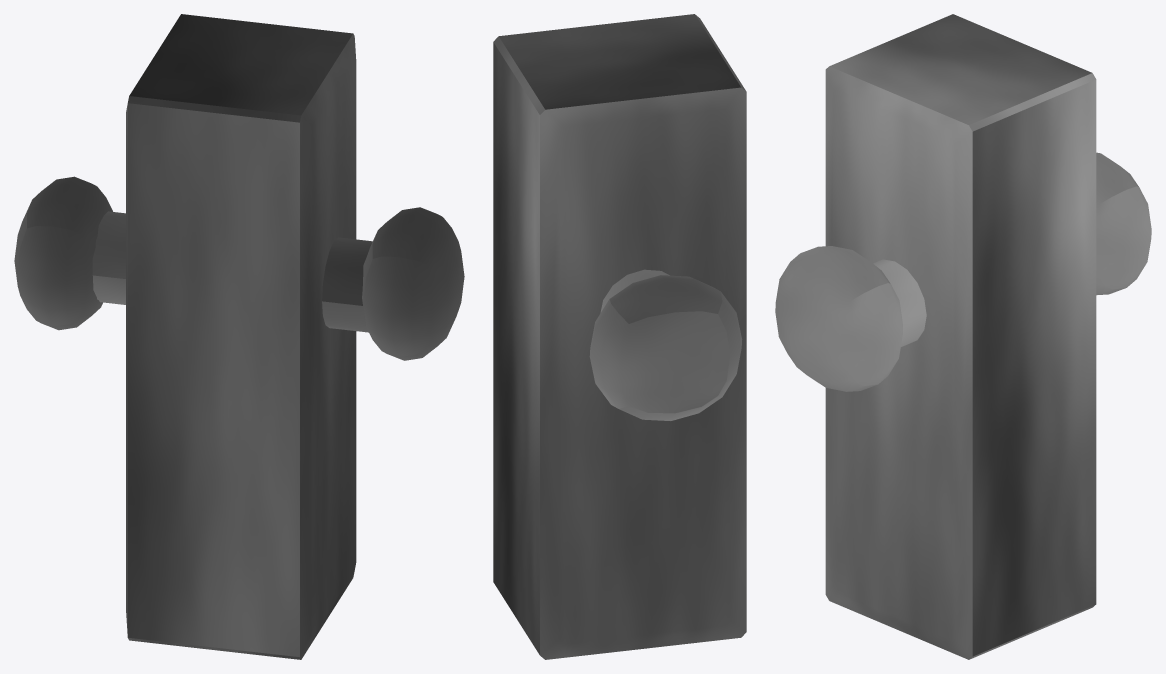
Rendered from FP208:StandardKnob1_23e0787e.obj.
3 renders of one model, left to right at view 1: azimuth 30°, elevation 25°; view 2: azimuth 150°, elevation 25°; view 3: azimuth 270°, elevation 25°, orthographic. The views are drawn at different scales.
Visible parts, largest first — view 1: FP208:StandardKnob1_23e0787e; view 2: FP208:StandardKnob1_23e0787e; view 3: FP208:StandardKnob1_23e0787e.
Part boxes in pixels (x1=…): FP208:StandardKnob1_23e0787e: x1=14, y1=14, x2=464, y2=659; FP208:StandardKnob1_23e0787e: x1=493, y1=14, x2=746, y2=659; FP208:StandardKnob1_23e0787e: x1=775, y1=14, x2=1151, y2=659.
Bounding box in the file's own units: 0.1049 × 0.1645 × 0.1049.
